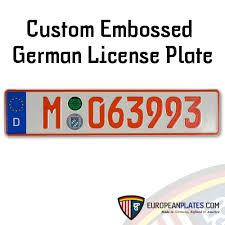0: (88, 95, 106, 130)
3: (183, 95, 202, 129), (126, 95, 145, 128)
6: (107, 95, 125, 129)
9: (145, 96, 163, 129), (165, 96, 182, 128)
M: (42, 95, 62, 131)
